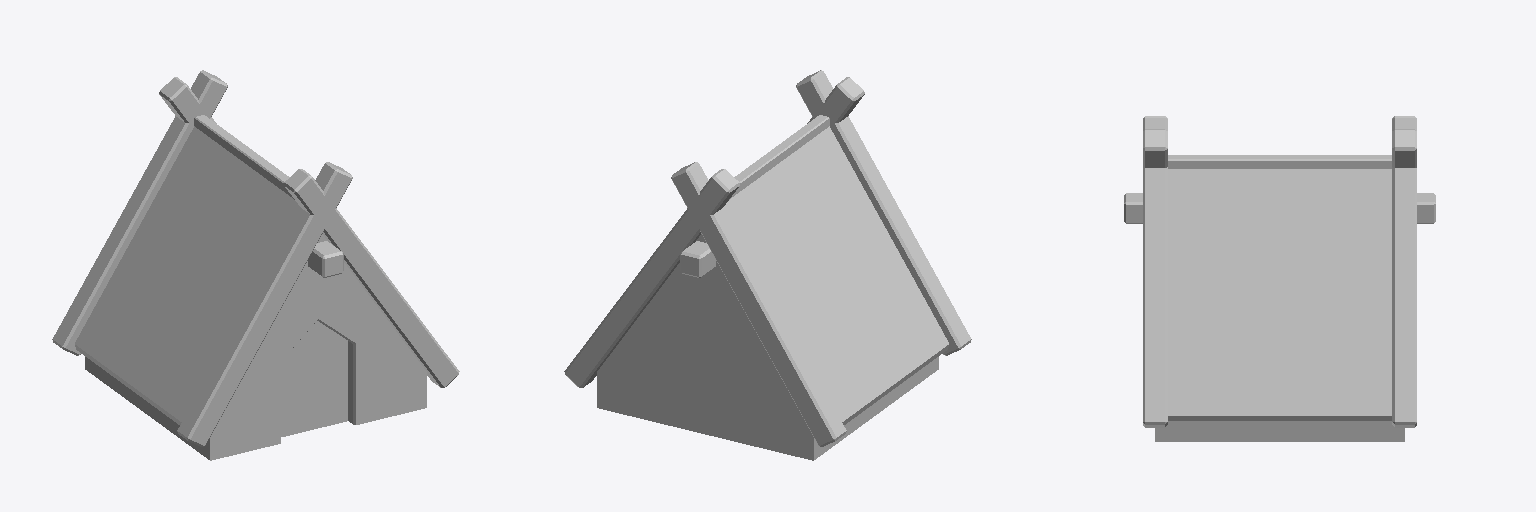
The model's file is Basic_house.obj.
The picture shows the model from 3 angles: view 1: azimuth 30°, elevation 25°; view 2: azimuth 150°, elevation 25°; view 3: azimuth 270°, elevation 25°; orthographic projection.
Visible parts, largest first — view 1: Roof, Beams, Walls; view 2: Roof, Beams, Walls; view 3: Roof, Beams, Walls.
Boxes of the visible parts, x1,y1,x2,y2 form: Roof: [75, 126, 299, 424]; Beams: [52, 70, 459, 446]; Walls: [85, 234, 426, 460]; Roof: [724, 126, 948, 424]; Beams: [564, 70, 971, 446]; Walls: [597, 234, 938, 460]; Roof: [1168, 169, 1391, 420]; Beams: [1124, 116, 1435, 427]; Walls: [1155, 421, 1404, 441].
Bounding box in the file's own units: 1.26 × 1.17 × 1.25.